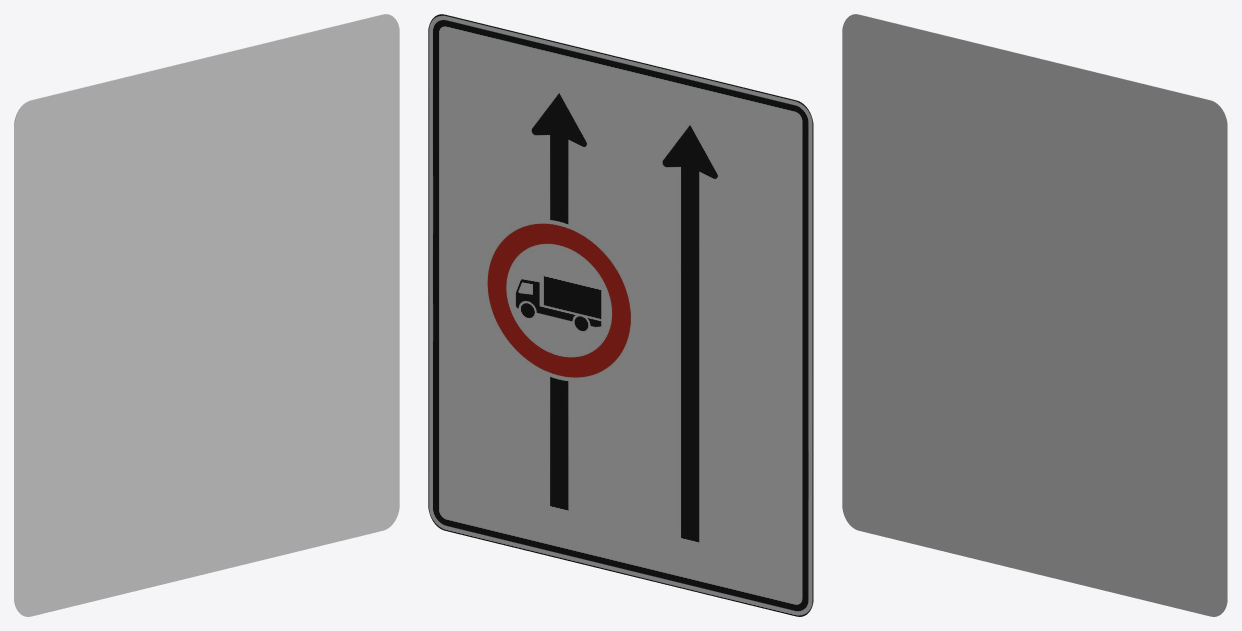
3 views of the same model, side by side, from view 1: azimuth 30°, elevation 25°; view 2: azimuth 150°, elevation 25°; view 3: azimuth 330°, elevation 25° (orthographic).
Parts seen in each view (by area): view 1: Plane; view 2: Plane; view 3: Plane.
Part boxes in pixels (box(x1,y1,x2,y2)): Plane: box(14, 14, 399, 616); Plane: box(428, 14, 813, 616); Plane: box(842, 14, 1227, 616).
Bounding box in the file's own units: 1.25 × 1.6 × 0.002.
2 materials, 1 textured.
